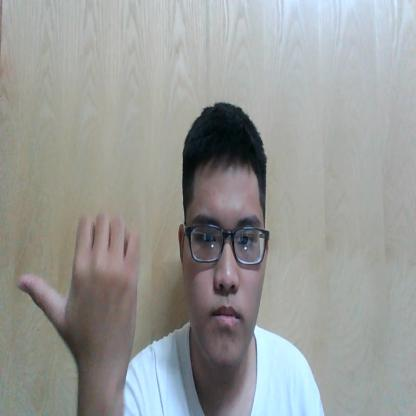right: (20, 210, 141, 382)
